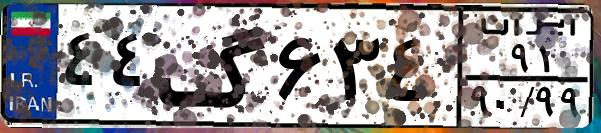0: (495, 70, 520, 125)
1: (537, 27, 568, 80)
3: (330, 28, 385, 110)
4: (385, 28, 445, 110), (57, 26, 110, 100), (110, 28, 156, 98)
6: (270, 28, 330, 110)
9: (560, 70, 590, 125), (508, 27, 537, 80), (470, 70, 495, 125), (535, 70, 560, 125)
گ: (156, 12, 270, 120)
